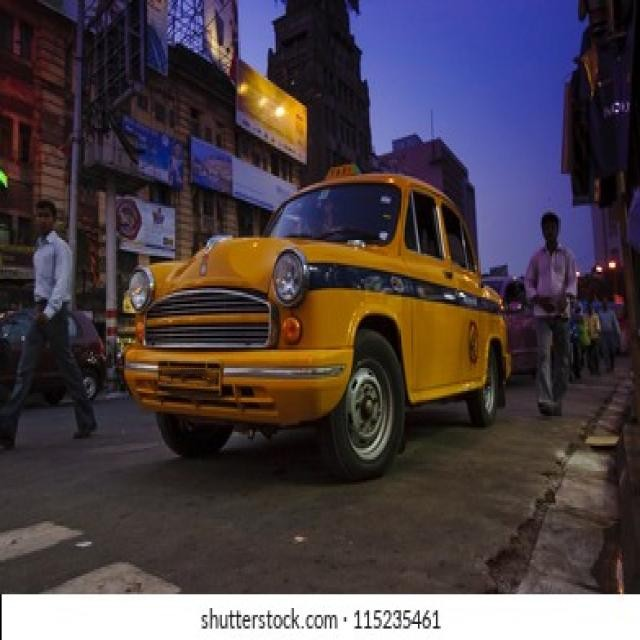car: (121, 164, 508, 480), (0, 308, 110, 407)
